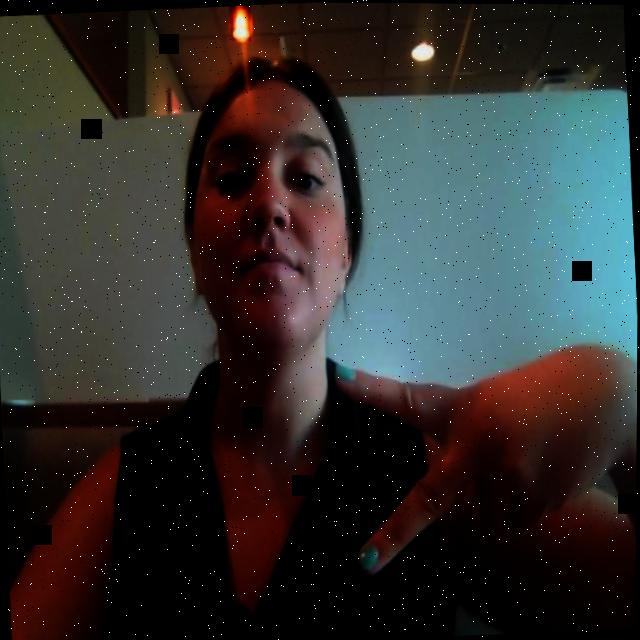Scissors: (313, 287, 638, 627)
